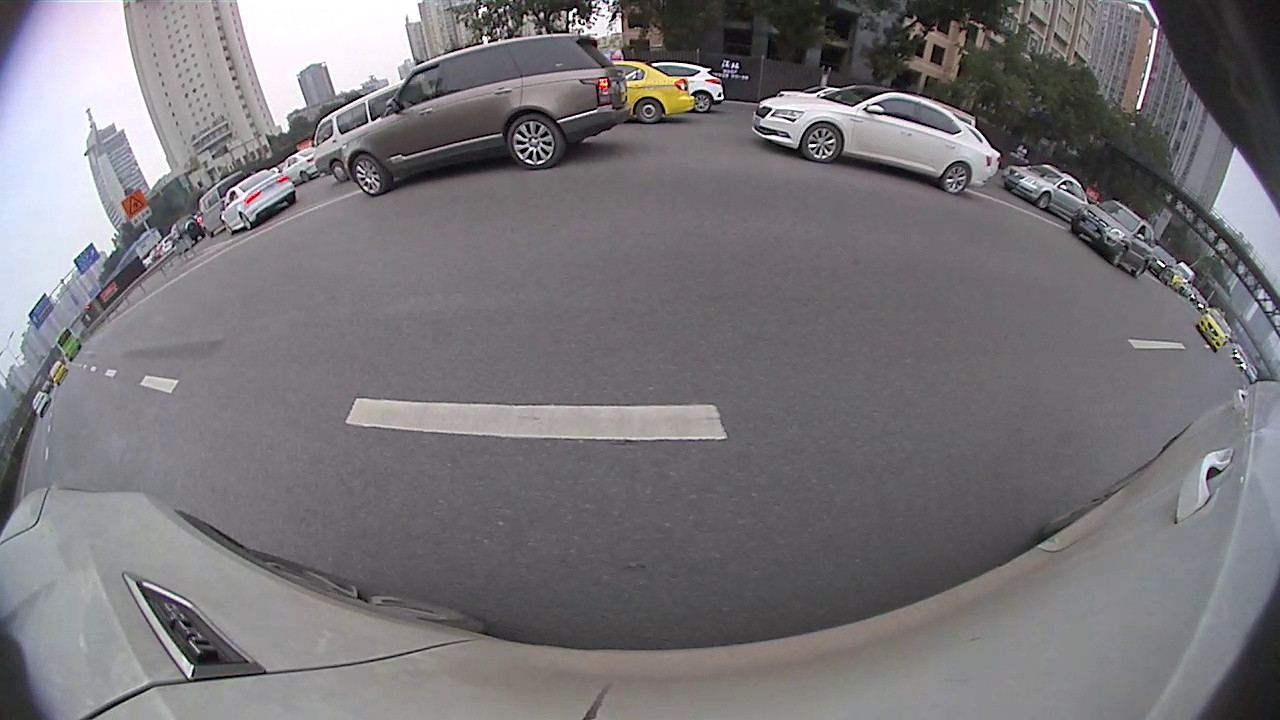bus: (947, 148, 1181, 219), (823, 139, 939, 192)
car: (2, 290, 208, 491), (1021, 190, 1234, 338), (933, 198, 1147, 298), (1168, 325, 1279, 449), (710, 132, 834, 216), (1226, 243, 1279, 350), (488, 155, 575, 208), (867, 174, 950, 221), (602, 151, 652, 193), (828, 169, 867, 209)
front: (63, 360, 176, 488), (940, 213, 964, 242), (712, 168, 722, 199), (860, 189, 873, 206)
rear: (1046, 252, 1082, 292), (1160, 302, 1188, 339), (740, 176, 752, 210), (902, 197, 915, 217), (549, 180, 557, 202)
rider: (662, 139, 696, 200)
